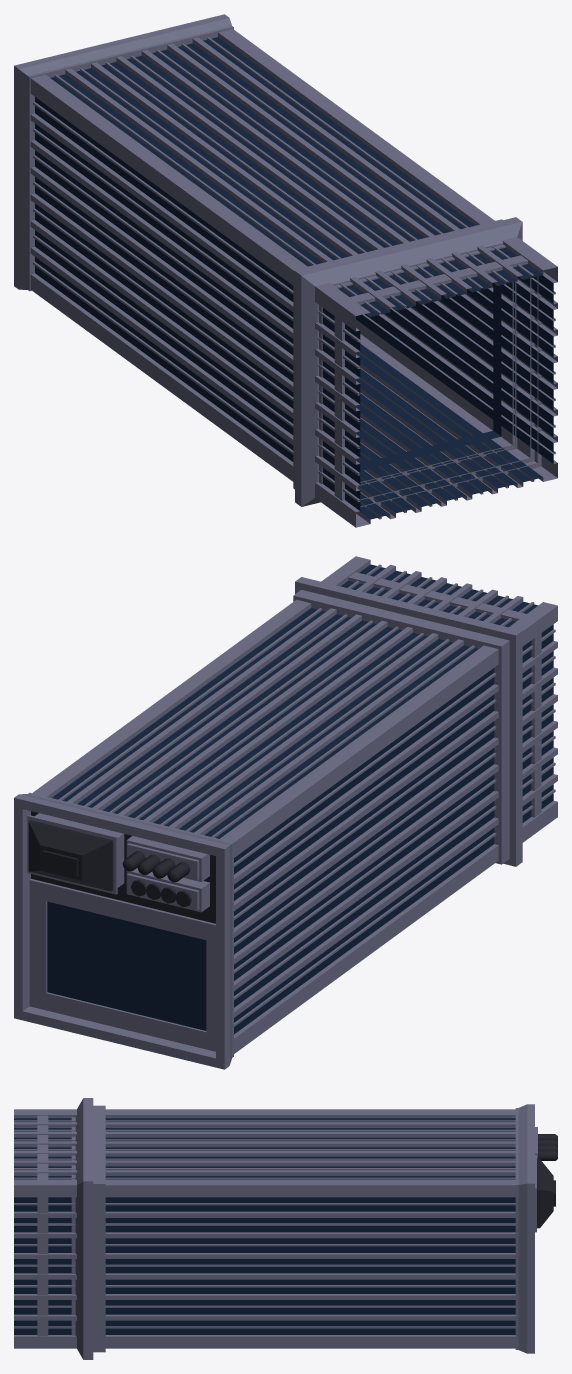
The model's file is Skyscr_01_B.dae.
The picture shows the model from 3 angles, top to bottom: view 1: azimuth 30°, elevation 25°; view 2: azimuth 150°, elevation 25°; view 3: azimuth 270°, elevation 25°; orthographic projection. The views are drawn at different scales.
Parts seen in each view (by area): view 1: Skyscr_01_B; view 2: Skyscr_01_B; view 3: Skyscr_01_B.
Part boxes in pixels (bbox=[...]): Skyscr_01_B: bbox=[14, 14, 557, 527]; Skyscr_01_B: bbox=[14, 556, 557, 1069]; Skyscr_01_B: bbox=[14, 1098, 557, 1359].
Size of the model in its own units: 0.3722 by 1.03 by 0.3722.
